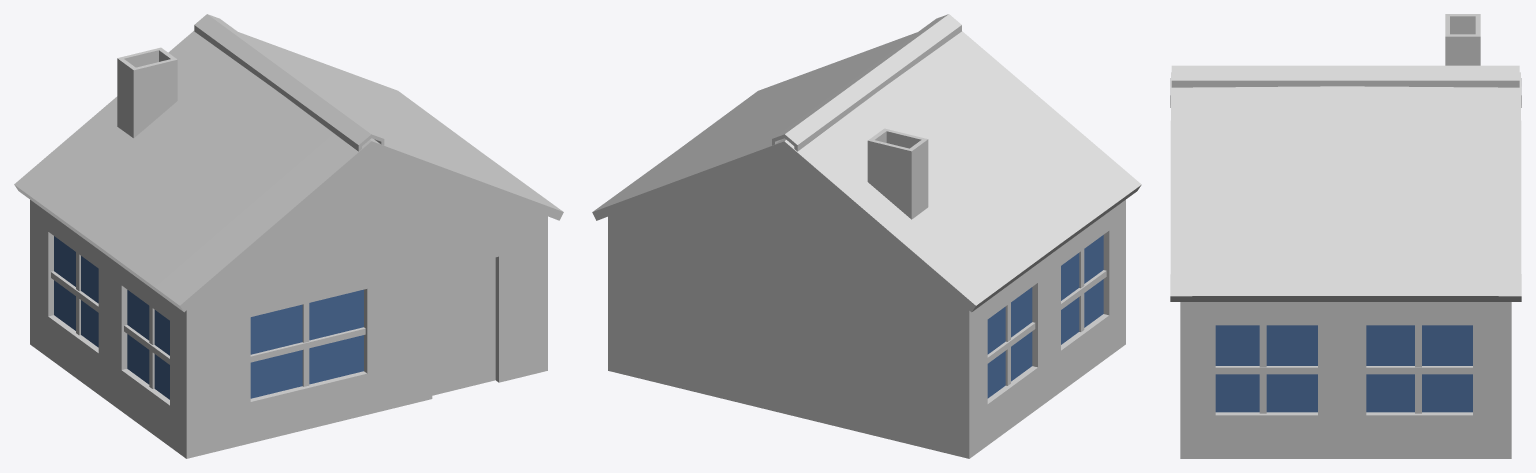
File: House_02.fbx
3 renders of one model, left to right at view 1: azimuth 30°, elevation 25°; view 2: azimuth 150°, elevation 25°; view 3: azimuth 270°, elevation 25°, orthographic. The views are drawn at different scales.
Parts seen in each view (by area): view 1: House; view 2: House; view 3: House.
Part boxes in pixels (<box>): House: <box>14,14,563,458</box>; House: <box>592,14,1141,458</box>; House: <box>1170,14,1521,458</box>.
Size of the model in its own units: 425 by 300 by 318.
